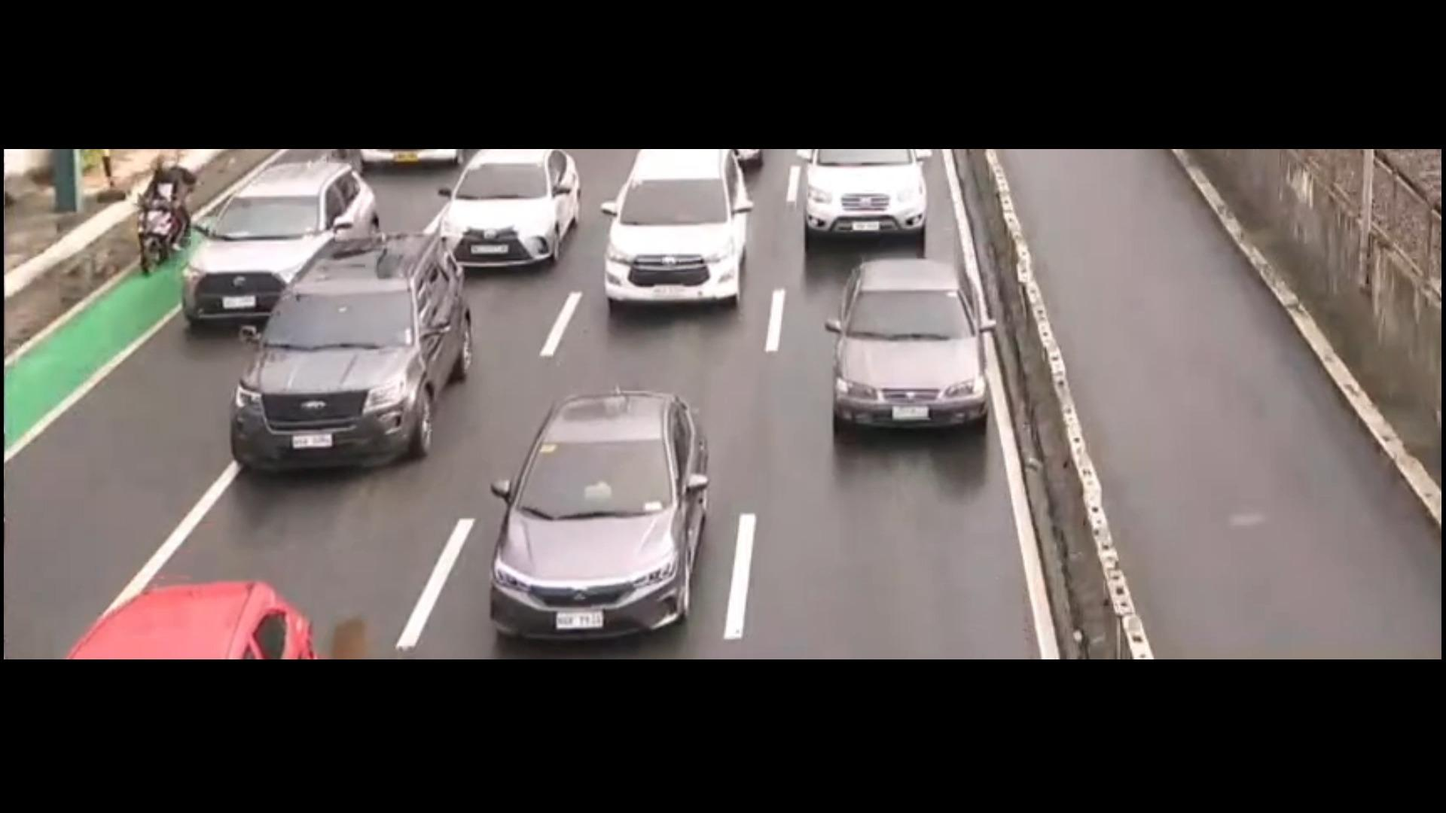Motorcycle: (123, 138, 207, 283)
SUV: (192, 236, 501, 493), (171, 158, 379, 333), (572, 149, 761, 333)
Sedan: (453, 373, 731, 661), (820, 241, 1008, 462), (435, 143, 592, 289)
